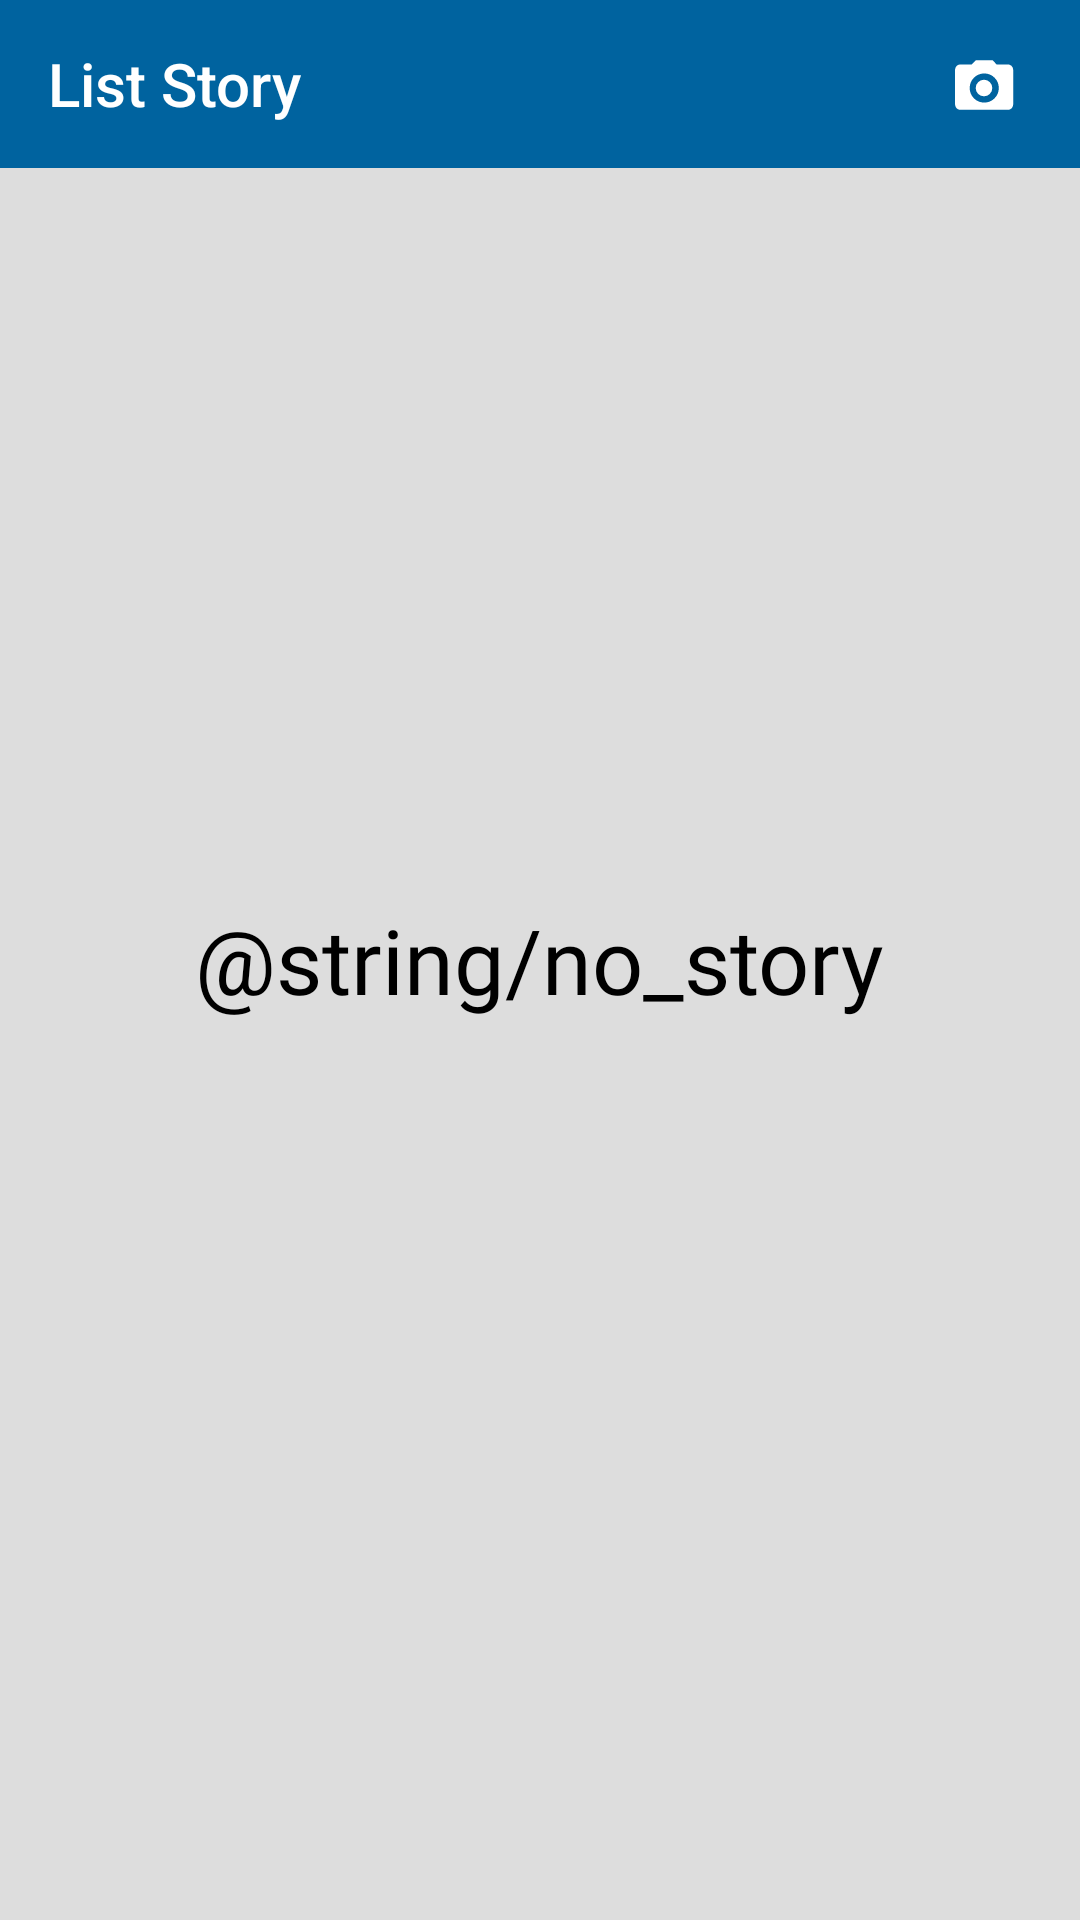

Screen size 1080x1920. Icon name, then its center in pixels as (x,y):
Post story: (984,85)
